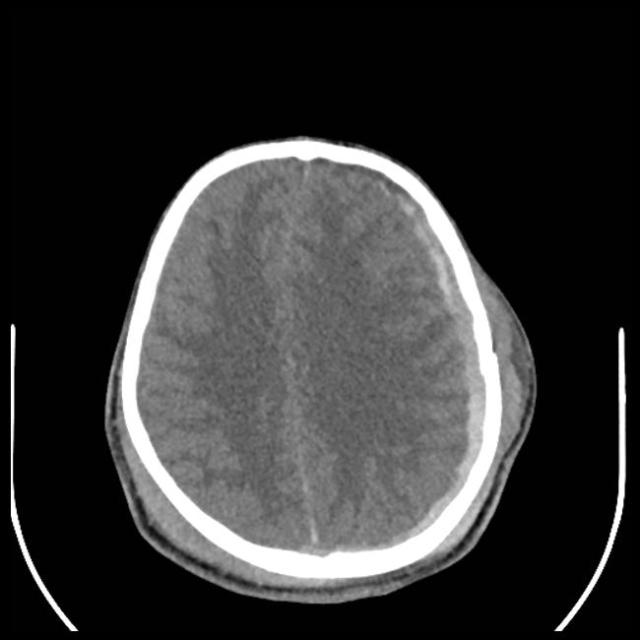lesion: (100, 132, 538, 604)
